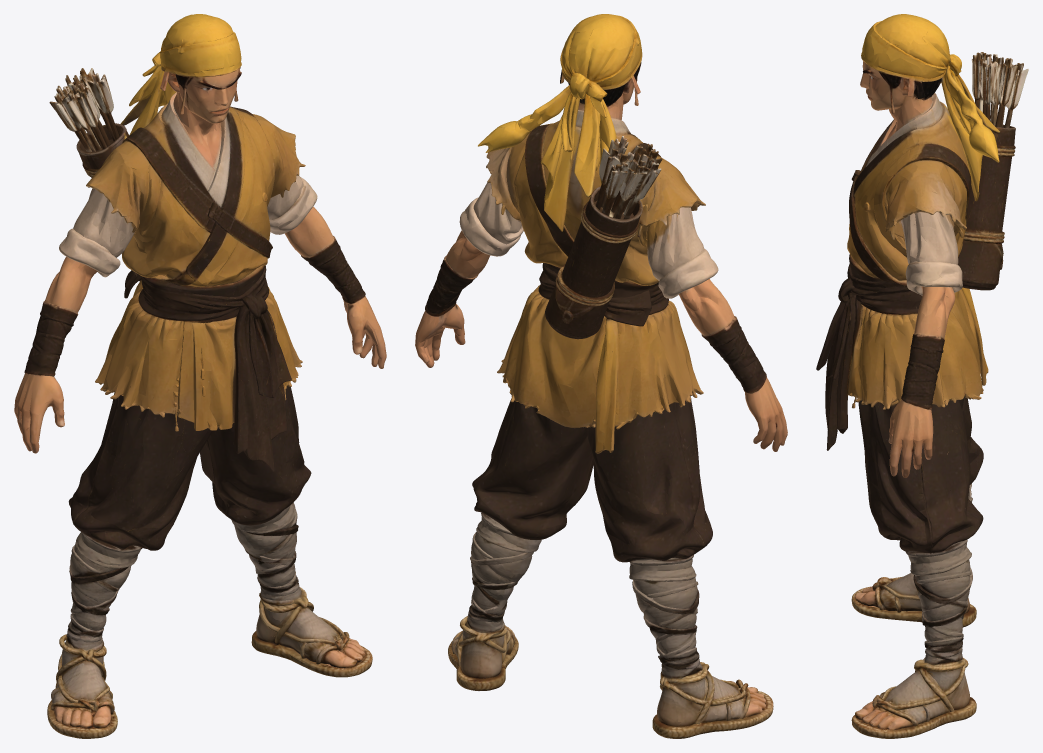
Rendered from glb.glb.
3 renders of one model, left to right at view 1: azimuth 30°, elevation 25°; view 2: azimuth 150°, elevation 25°; view 3: azimuth 270°, elevation 25°, orthographic. The views are drawn at different scales.
Size of the model in its own units: 1.07 by 1.9 by 0.5649.
Materials: 1 (1 with a texture image).
